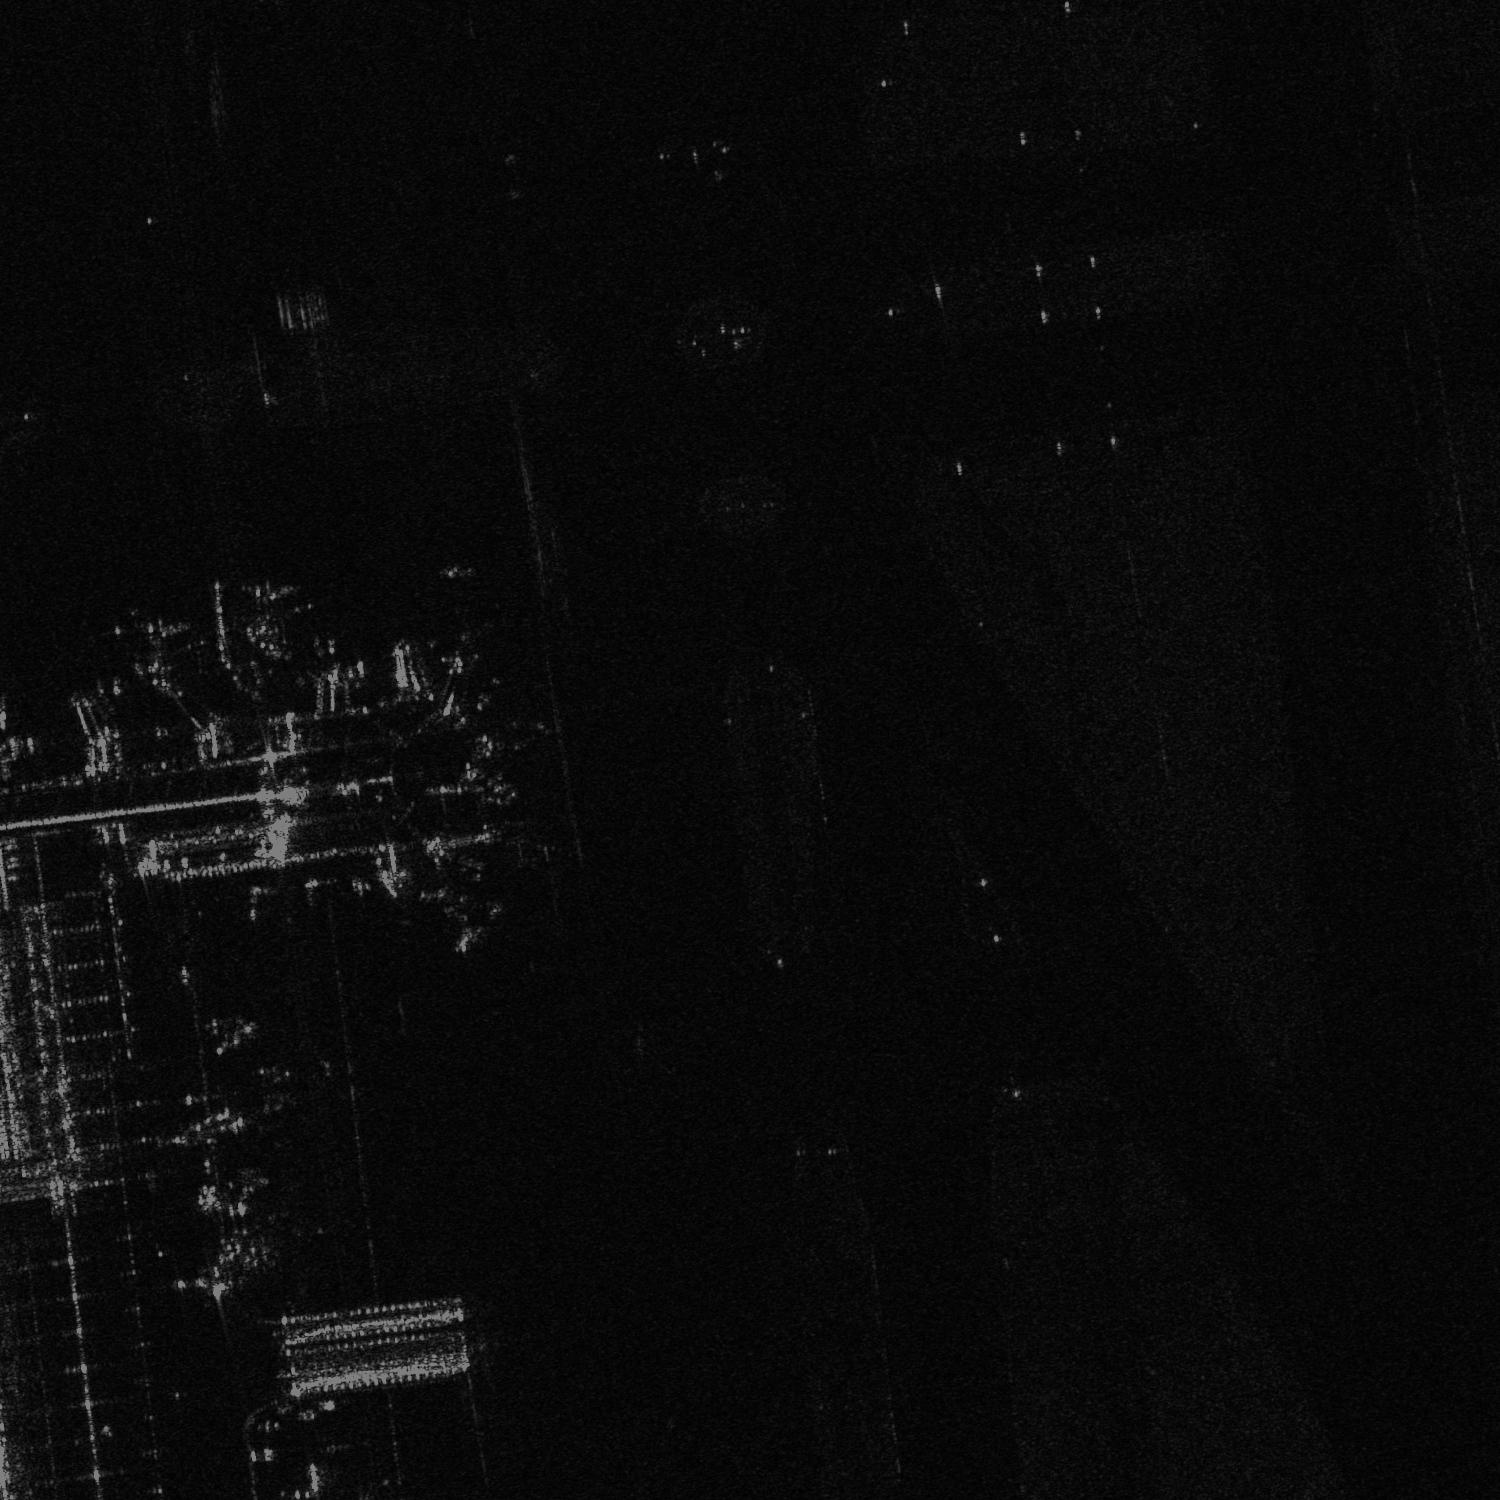A220: (129, 602, 191, 657), (236, 567, 295, 615)
